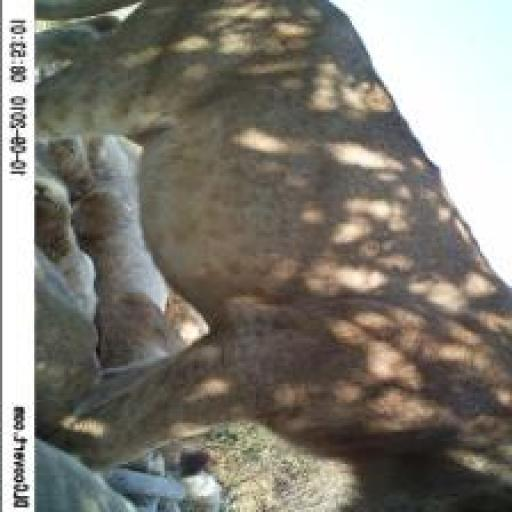lion: (30, 2, 505, 502)
